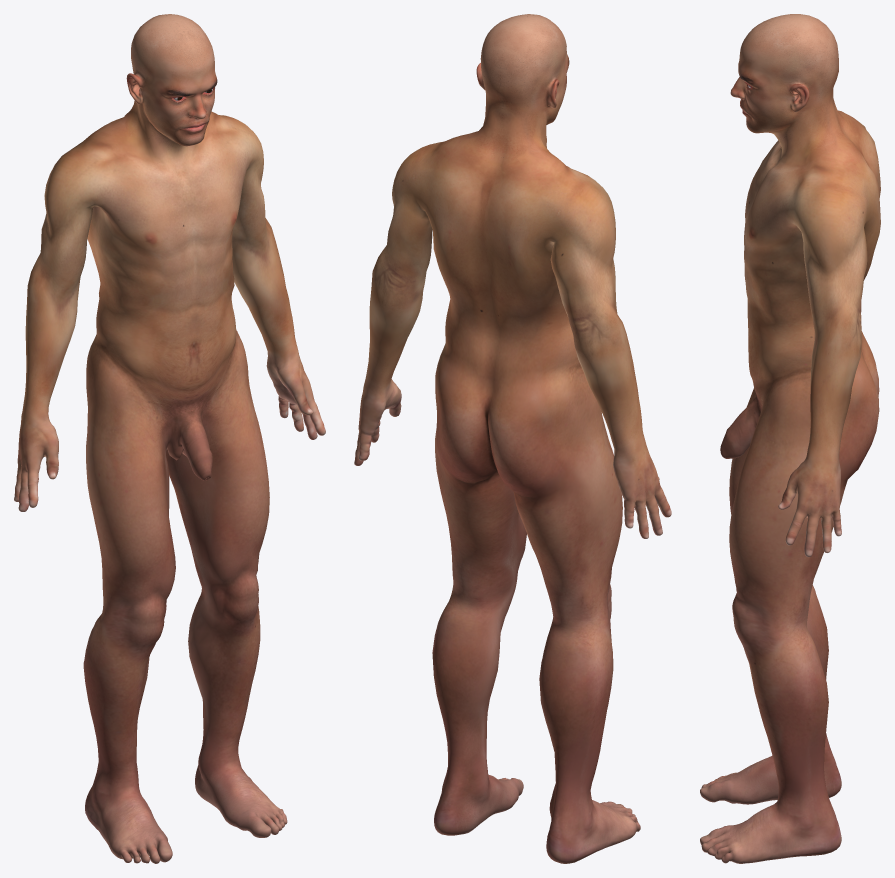
The model's file is Male_Intergumentary_System.fbx.
3 renders of one model, left to right at view 1: azimuth 30°, elevation 25°; view 2: azimuth 150°, elevation 25°; view 3: azimuth 270°, elevation 25°, orthographic. The views are drawn at different scales.
Parts seen in each view (by area): view 1: Body, Head; view 2: Body, Head; view 3: Body, Head.
Part boxes in pixels (x1,y1,x2,y2): Body: (14, 111, 325, 863); Head: (118, 14, 217, 147); Body: (354, 133, 671, 863); Head: (466, 14, 569, 159); Body: (700, 110, 880, 863); Head: (730, 14, 846, 151).
Bounding box in the file's own units: 71.91 × 185 × 37.61.
4 materials, 3 textured.
